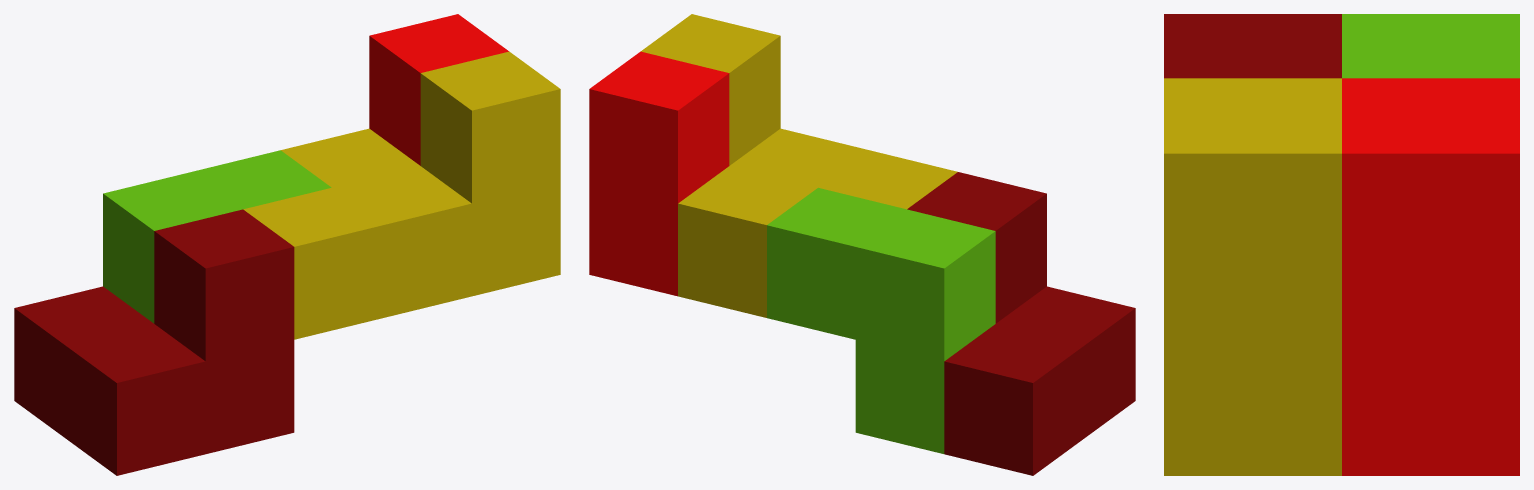
The picture shows the model from 3 angles, left to right: view 1: azimuth 30°, elevation 25°; view 2: azimuth 150°, elevation 25°; view 3: azimuth 270°, elevation 25°; orthographic projection. The views are drawn at different scales.
Visible parts, largest first — view 1: mergedBlocks(Clone); view 2: mergedBlocks(Clone); view 3: mergedBlocks(Clone).
Part boxes in pixels (x1,y1,x2,y2): mergedBlocks(Clone): (14,14,560,475); mergedBlocks(Clone): (589,14,1135,475); mergedBlocks(Clone): (1164,14,1519,475).
Size of the model in its own units: 5 by 3 by 2.
4 materials, 4 textured.
